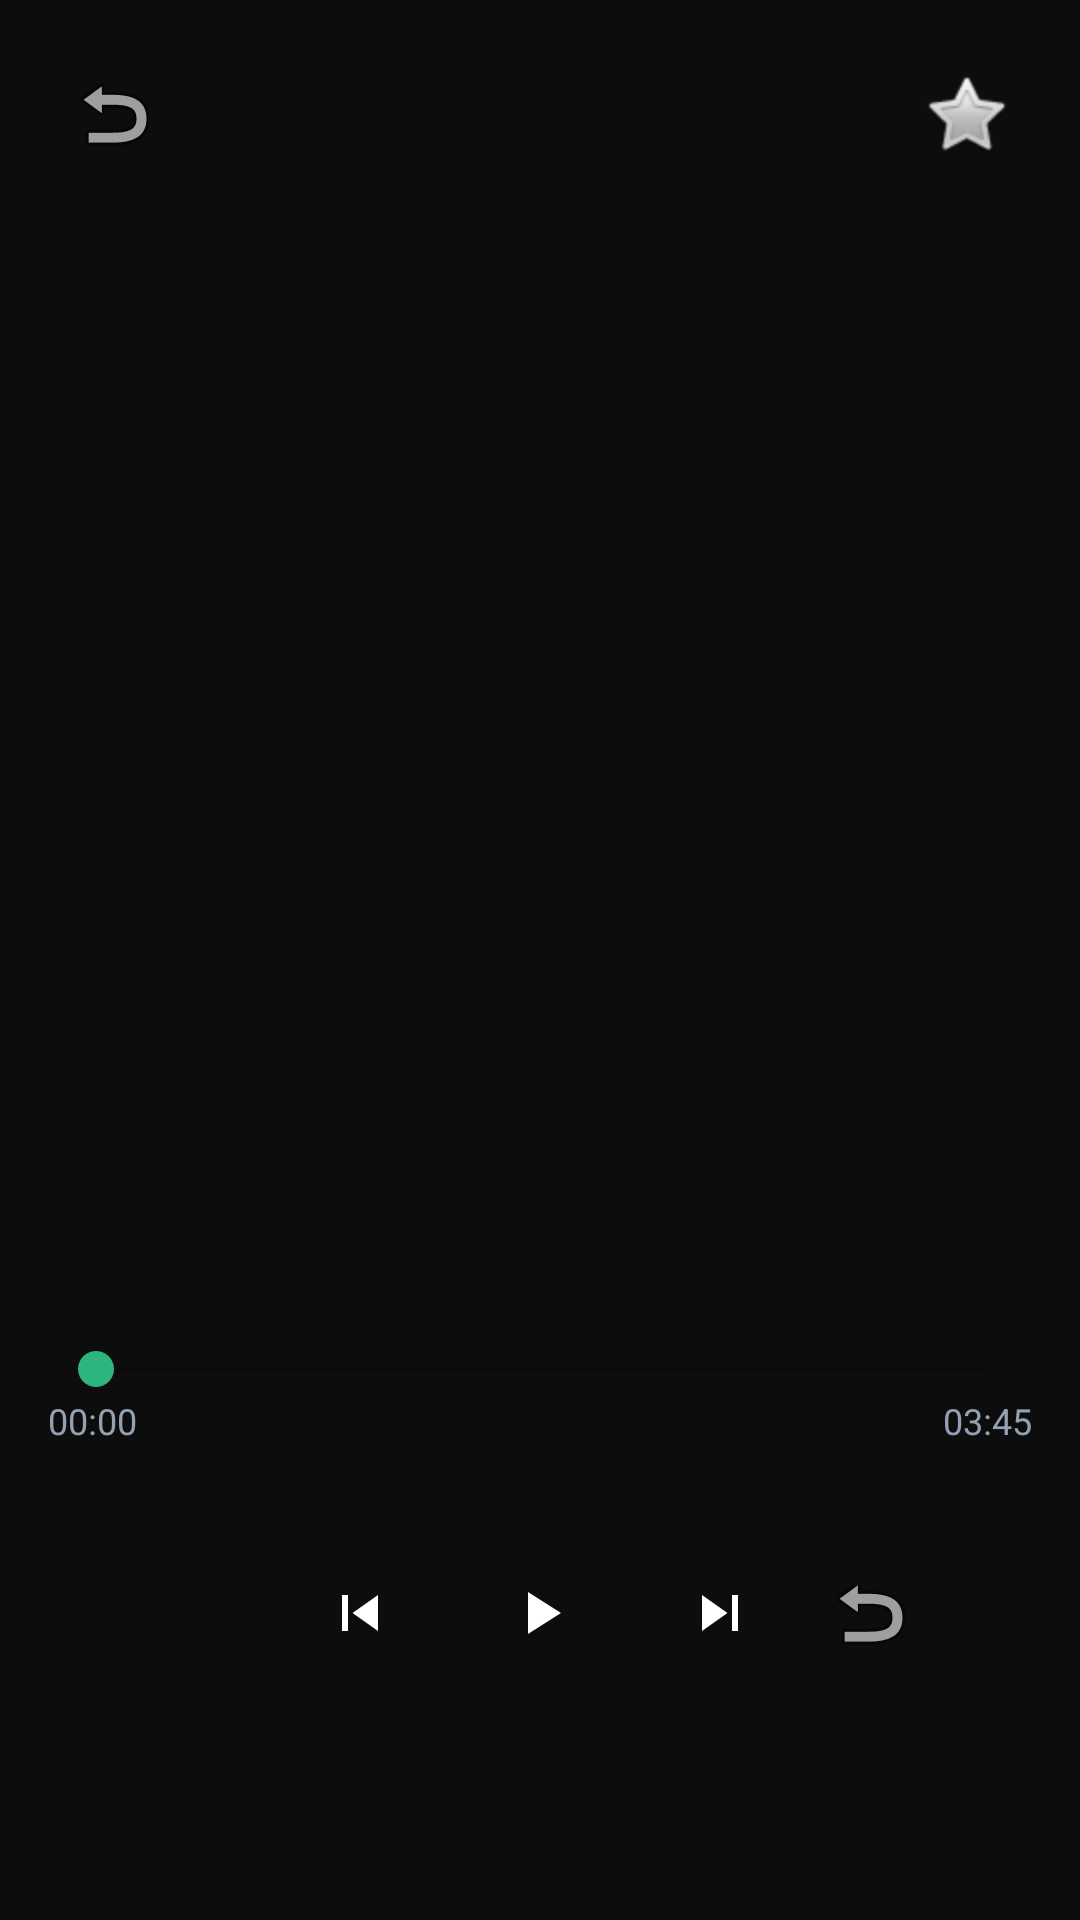

Locate icon controls on the screen. Image size 1080 x 1920, boxes as [left=x1, top=y1, right=x2, bottom=y2].
next: [left=702, top=1595, right=738, bottom=1631]
play: [left=528, top=1592, right=561, bottom=1634]
previous: [left=342, top=1595, right=378, bottom=1631]
revert: [left=84, top=86, right=147, bottom=143], [left=840, top=1585, right=903, bottom=1642]
star: [left=928, top=77, right=1005, bottom=150]
